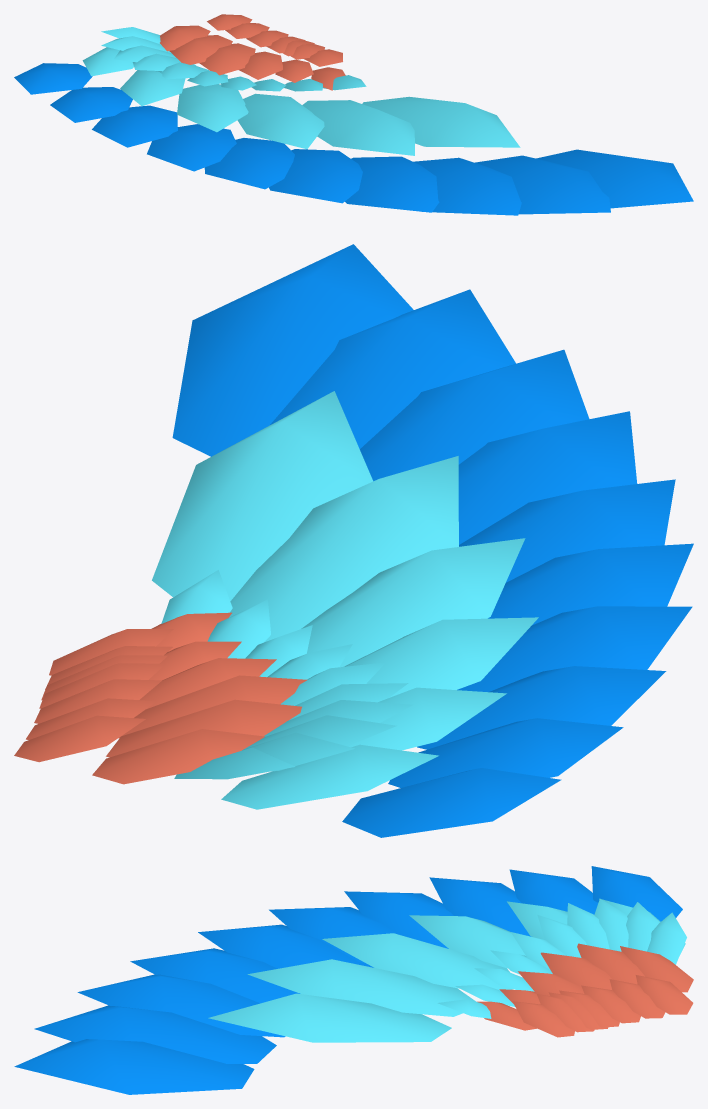
File: wing.glb
3 views of the same model, one above another, from view 1: azimuth 30°, elevation 25°; view 2: azimuth 150°, elevation 25°; view 3: azimuth 270°, elevation 25° (orthographic). The views are drawn at different scales.
Parts seen in each view (by area): view 1: Parrot.141; view 2: Parrot.141; view 3: Parrot.141.
Boxes of the visible parts, x1,y1,x2,y2 form: Parrot.141: (14,14,693,215); Parrot.141: (14,244,693,837); Parrot.141: (14,866,693,1094).
Bounding box in the file's own units: 0.9834 × 0.1178 × 1.3.
